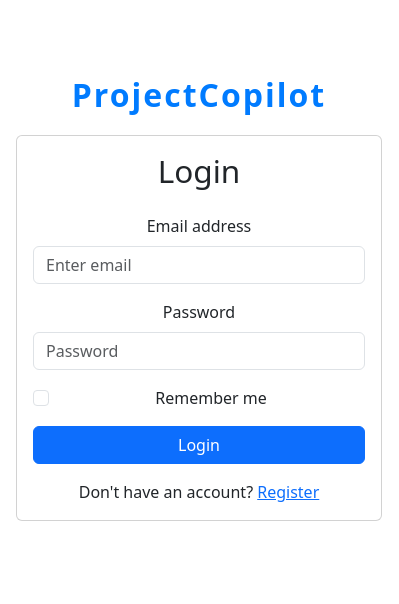
Test: Authentication Flow › should navigate to registration page from login page
The image size is (399, 604).
Click the link "Register" at (288, 492), box [257,481,319,503]
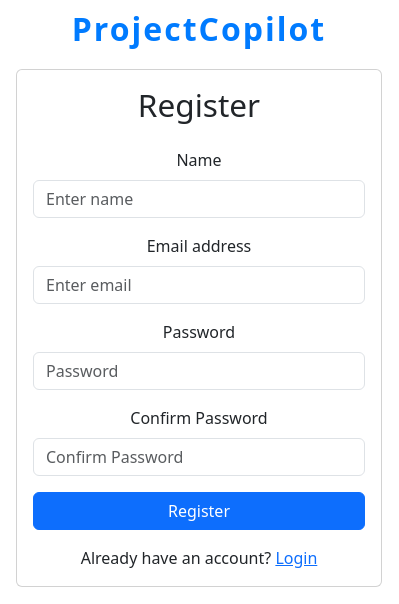
Expected: the heading "Register" is shown, [138,83,260,126]
